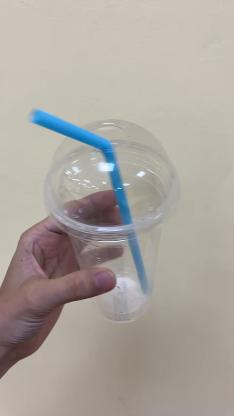Plastic Cup: (45, 118, 181, 324)
